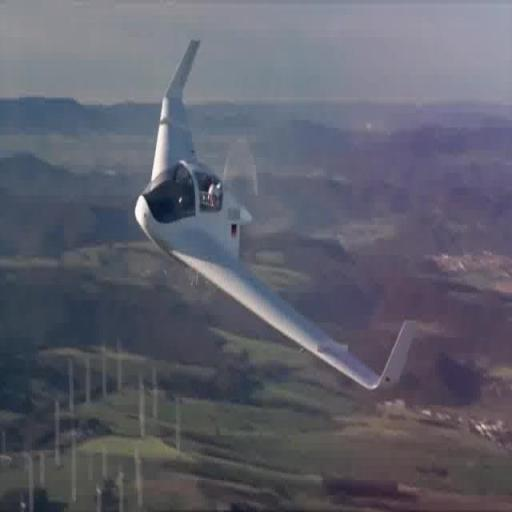uav: (134, 38, 420, 414)
